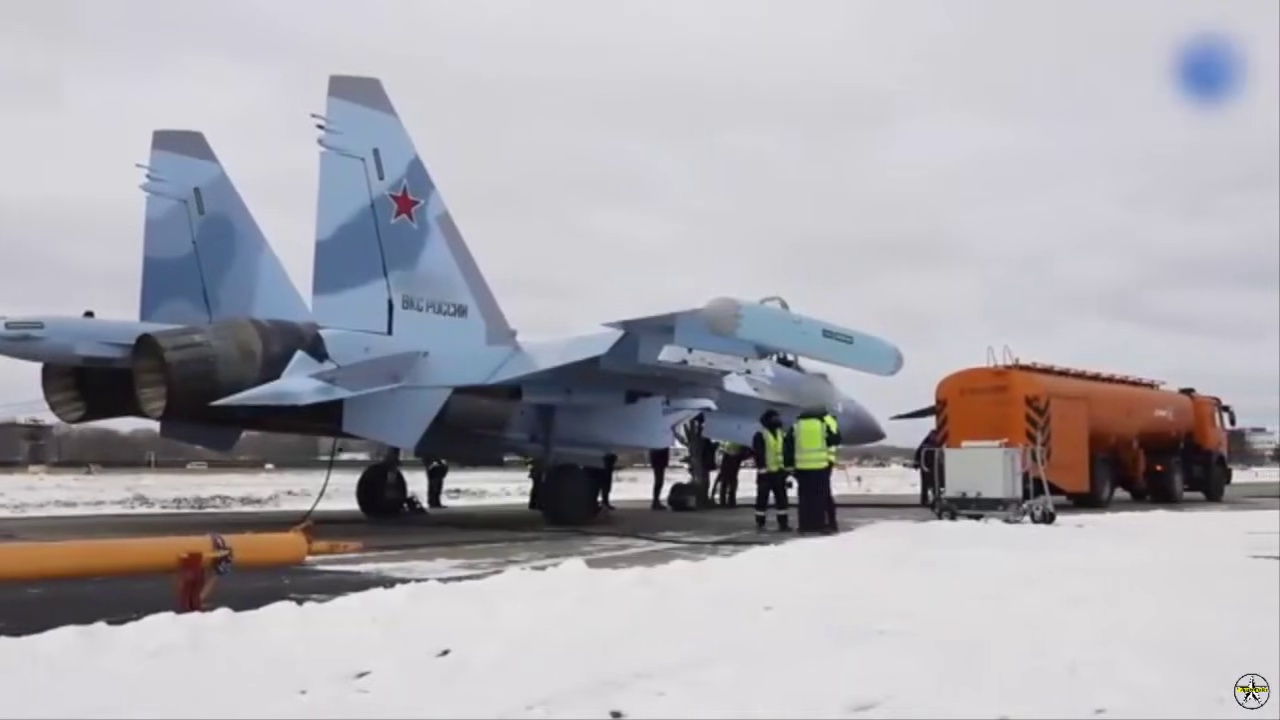Su35: (0, 68, 907, 523)
